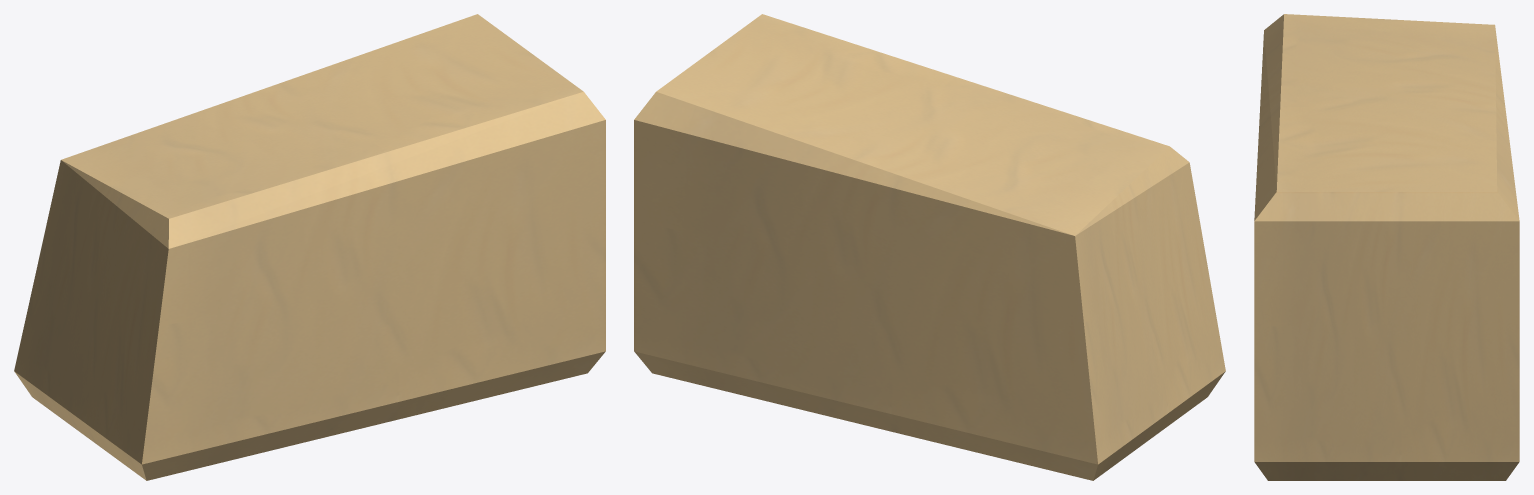
Rendered from BlockB.FBX.
3 renders of one model, left to right at view 1: azimuth 30°, elevation 25°; view 2: azimuth 150°, elevation 25°; view 3: azimuth 270°, elevation 25°, orthographic. The views are drawn at different scales.
Visible parts, largest first — view 1: BlockB; view 2: BlockB; view 3: BlockB.
Part boxes in pixels (x1,y1,x2,y2): BlockB: (14,14,605,480); BlockB: (634,14,1225,480); BlockB: (1254,14,1519,480).
Bounding box in the file's own units: 10.49 × 5 × 6.01.
Materials: 1 (1 with a texture image).
